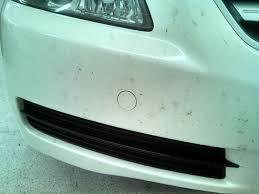Bumper: (220, 147, 249, 174)
